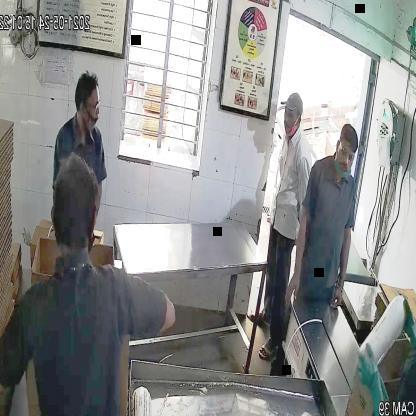goggles: (336, 144, 358, 164)
no_goggles: (284, 107, 304, 124)
